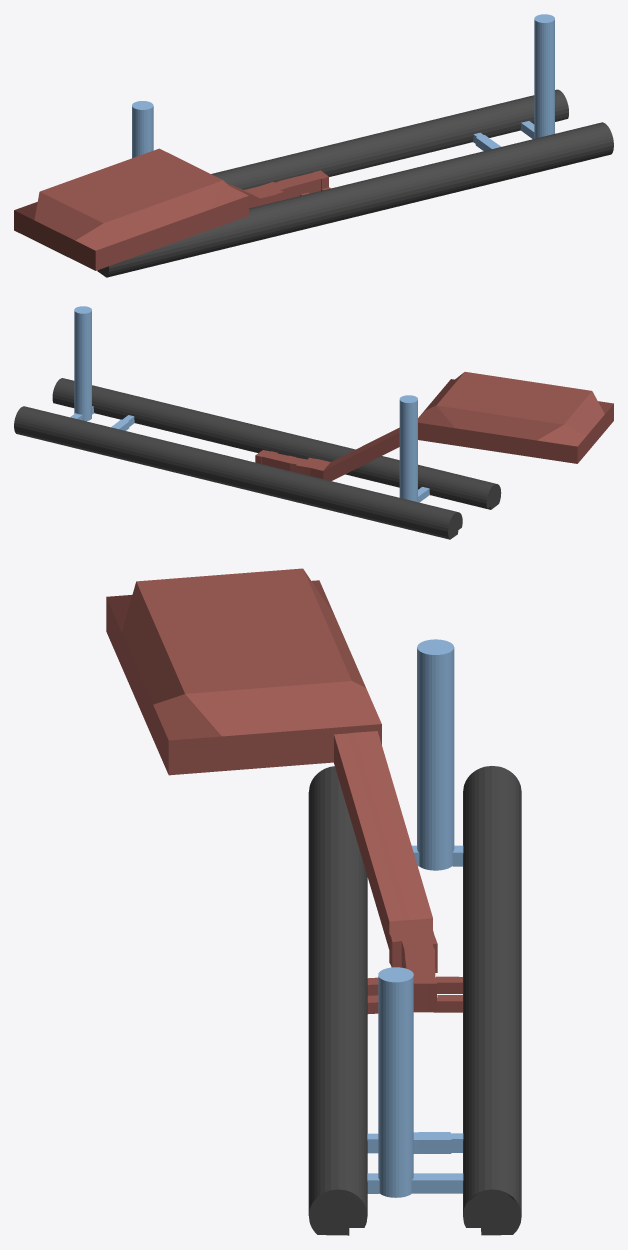
3 views of the same model, one above another, from view 1: azimuth 30°, elevation 25°; view 2: azimuth 150°, elevation 25°; view 3: azimuth 270°, elevation 25° (orthographic). The views are drawn at different scales.
Visible parts, largest first — view 1: TicketHall, PLT1, PLT2, 14, Concourse, 26; view 2: PLT2, TicketHall, PLT1, 26, 14, ESC, Concourse; view 3: TicketHall, PLT2, PLT1, ESC, 14, 26, Concourse, 33.
Boxes of the visible parts, x1,y1,x2,y2 form: TicketHall: [14, 148, 248, 270]; PLT1: [97, 122, 613, 277]; PLT2: [211, 89, 568, 189]; 14: [520, 14, 554, 138]; Concourse: [244, 170, 328, 205]; 26: [132, 101, 153, 158]; PLT2: [14, 406, 462, 539]; TicketHall: [418, 372, 613, 463]; PLT1: [52, 378, 501, 509]; 26: [399, 395, 429, 502]; 14: [70, 306, 94, 421]; ESC: [323, 427, 399, 480]; Concourse: [255, 450, 330, 478]; TicketHall: [106, 568, 381, 775]; PLT2: [463, 766, 521, 1235]; PLT1: [308, 766, 367, 1235]; ESC: [334, 731, 432, 949]; 14: [367, 967, 463, 1197]; 26: [412, 639, 463, 870]; Concourse: [389, 918, 437, 1012]; 33: [367, 1132, 463, 1153].
Bounding box in the file's own units: 186 × 38.67 × 65.05.
